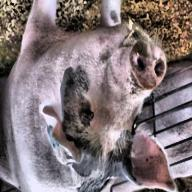boar: (0, 0, 178, 192)
